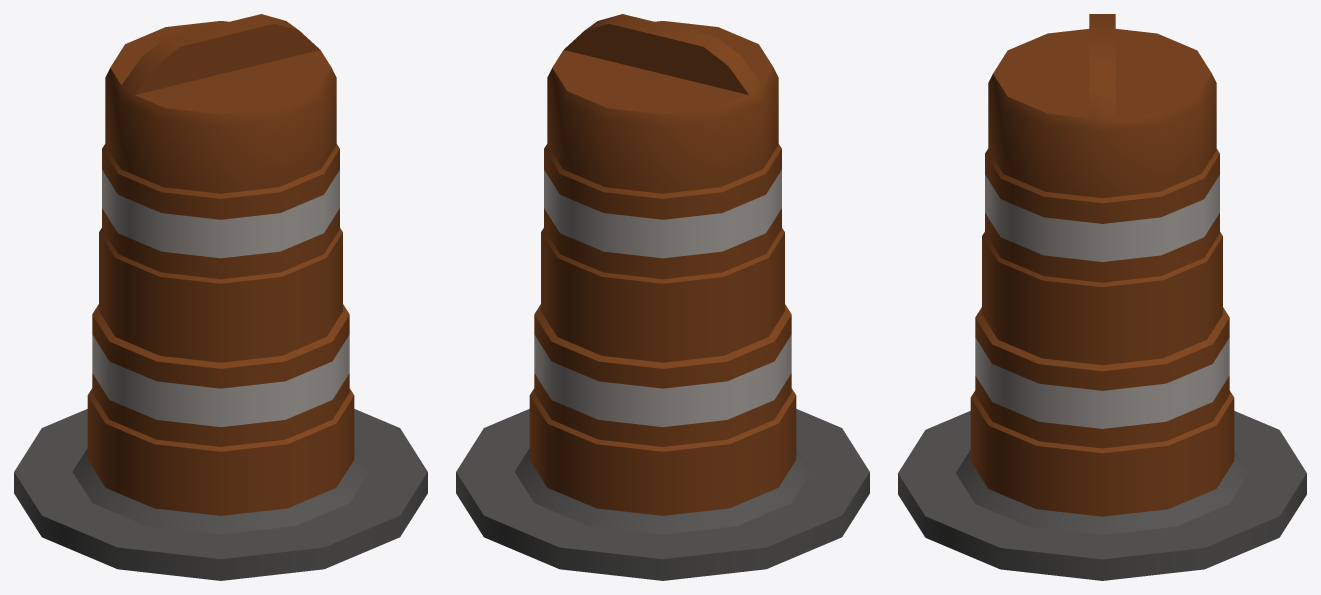
The model's file is trafficcone-2.glb.
3 views of the same model, side by side, from view 1: azimuth 30°, elevation 25°; view 2: azimuth 150°, elevation 25°; view 3: azimuth 270°, elevation 25° (orthographic).
Visible parts, largest first — view 1: TrafficCone_2; view 2: TrafficCone_2; view 3: TrafficCone_2.
Part boxes in pixels (x1=…): TrafficCone_2: x1=14, y1=14, x2=427, y2=580; TrafficCone_2: x1=456, y1=14, x2=869, y2=580; TrafficCone_2: x1=898, y1=14, x2=1306, y2=580.
Size of the model in its own units: 0.5954 by 0.7356 by 0.5954.
